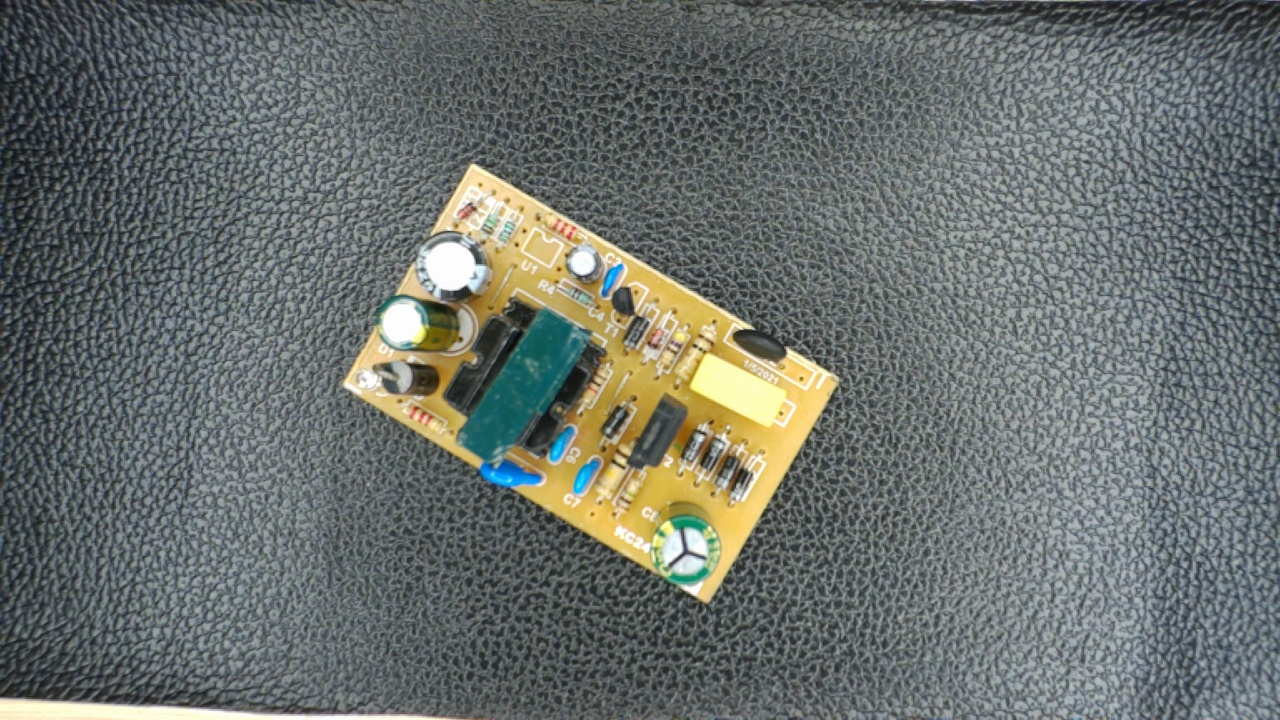fuse: (717, 326, 797, 374)
hv_capacitor: (648, 501, 728, 591)
mov: (473, 453, 549, 489)
